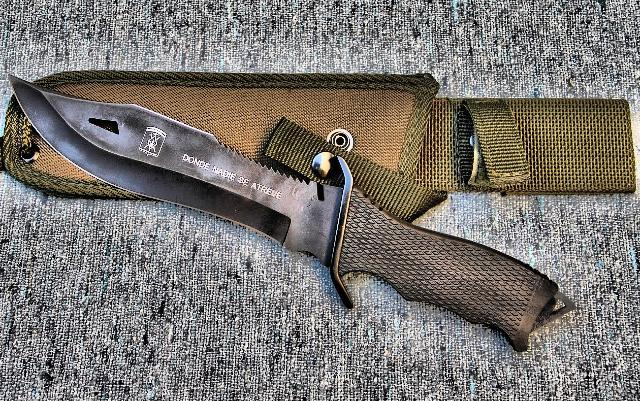knife: (0, 67, 316, 269)
